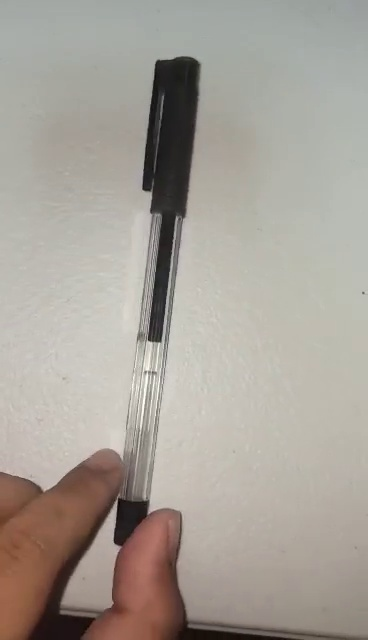ballpen: (115, 56, 205, 547)
hand: (1, 449, 191, 640)
